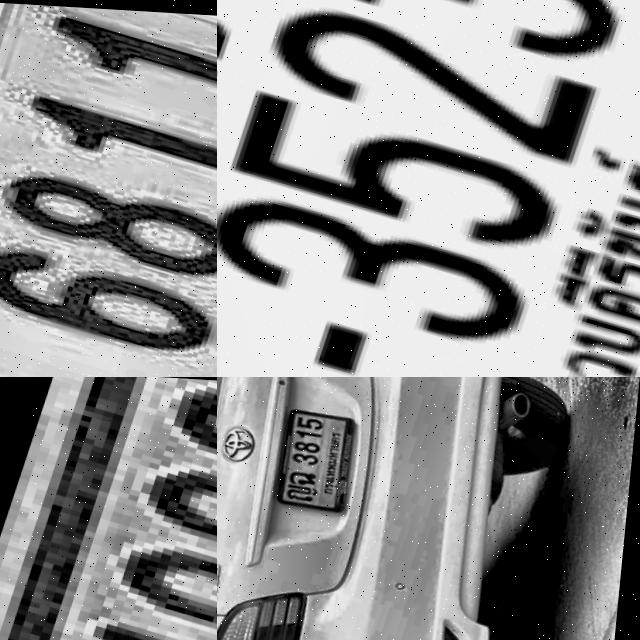license-plate: (217, 0, 640, 377), (0, 0, 217, 377), (0, 377, 217, 640), (259, 391, 389, 523)
